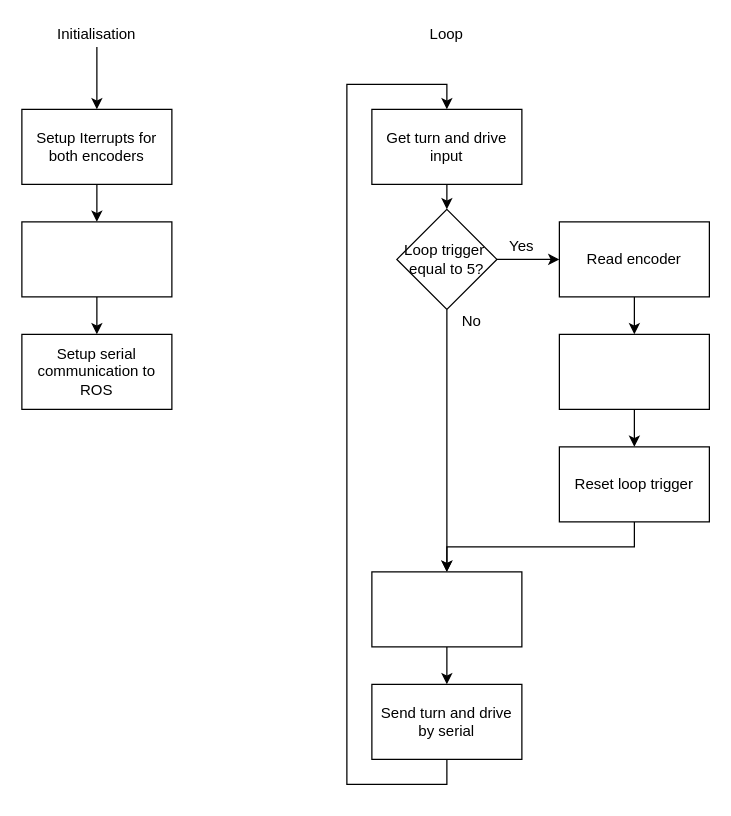
This 731x816 diagram has some shape labels left out. Here are the shapes that lost their labels. From the top down, the centre of each, then its label:
(96,259): Setup serial communication to motor controller
(633,371): Call control loop: Set reference
(446,609): Read emergency
